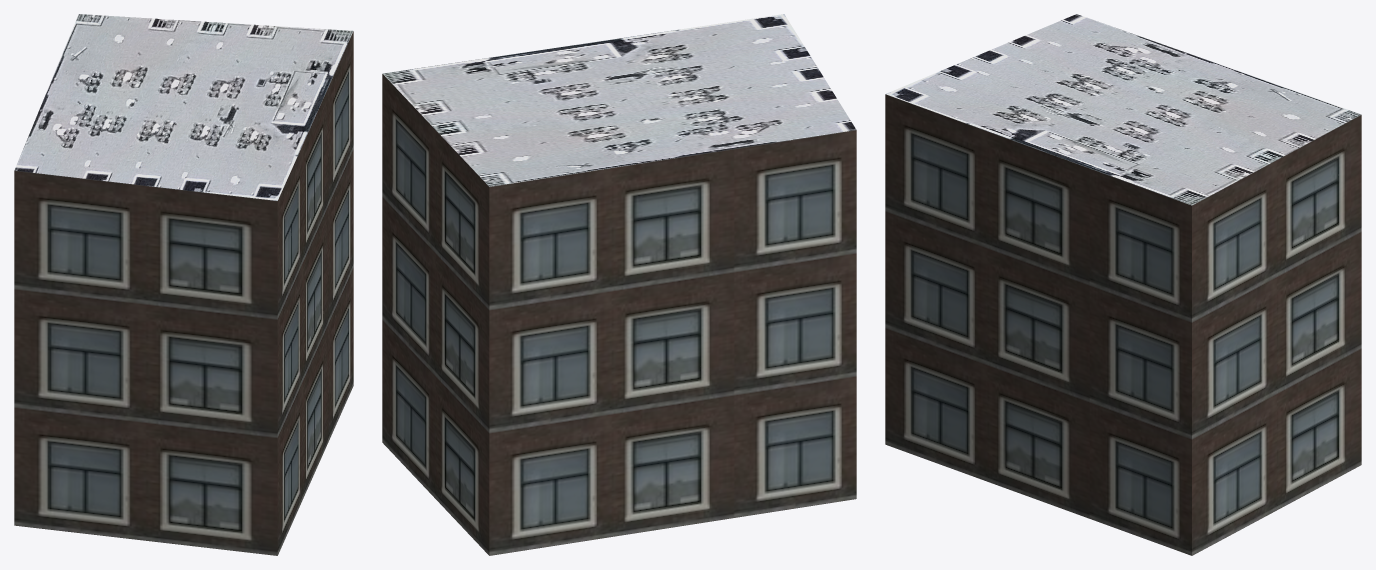
File: ResTex__1386.fbx
The picture shows the model from 3 angles, left to right: view 1: azimuth 30°, elevation 25°; view 2: azimuth 150°, elevation 25°; view 3: azimuth 270°, elevation 25°; orthographic projection. The views are drawn at different scales.
Parts seen in each view (by area): view 1: CityEngineMaterial_16_m, CityEngineMaterial_15_m; view 2: CityEngineMaterial_16_m, CityEngineMaterial_15_m; view 3: CityEngineMaterial_16_m, CityEngineMaterial_15_m.
Boxes of the visible parts, x1,y1,x2,y2 form: CityEngineMaterial_16_m: (14, 31, 353, 555); CityEngineMaterial_15_m: (14, 14, 353, 200); CityEngineMaterial_16_m: (382, 74, 856, 555); CityEngineMaterial_15_m: (383, 14, 856, 186); CityEngineMaterial_16_m: (885, 94, 1361, 555); CityEngineMaterial_15_m: (885, 14, 1361, 205).
Size of the model in its own units: 10.55 by 9 by 11.09.
2 materials, 2 textured.
